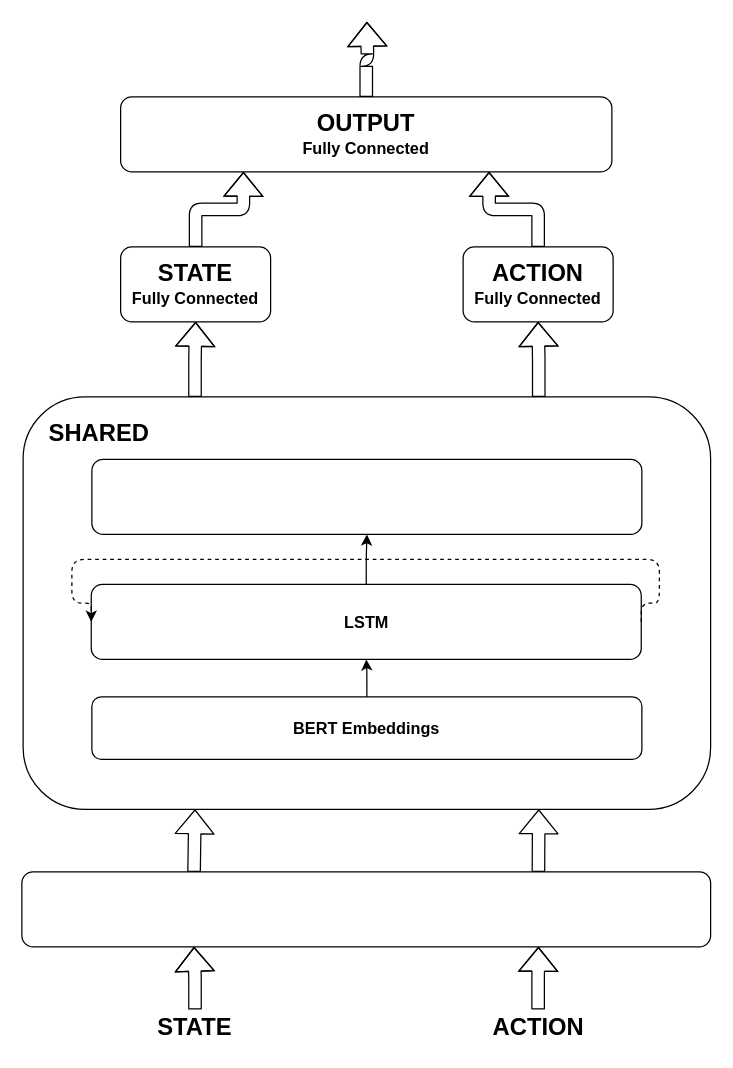
Some shapes in this 733 by 1068 pixel diagram are drawn without their labels. The centre of each missing label's shape, as x and y in pixels:
Fully Connected: the point at 366,496
TOKENIZER: the point at 366,909
